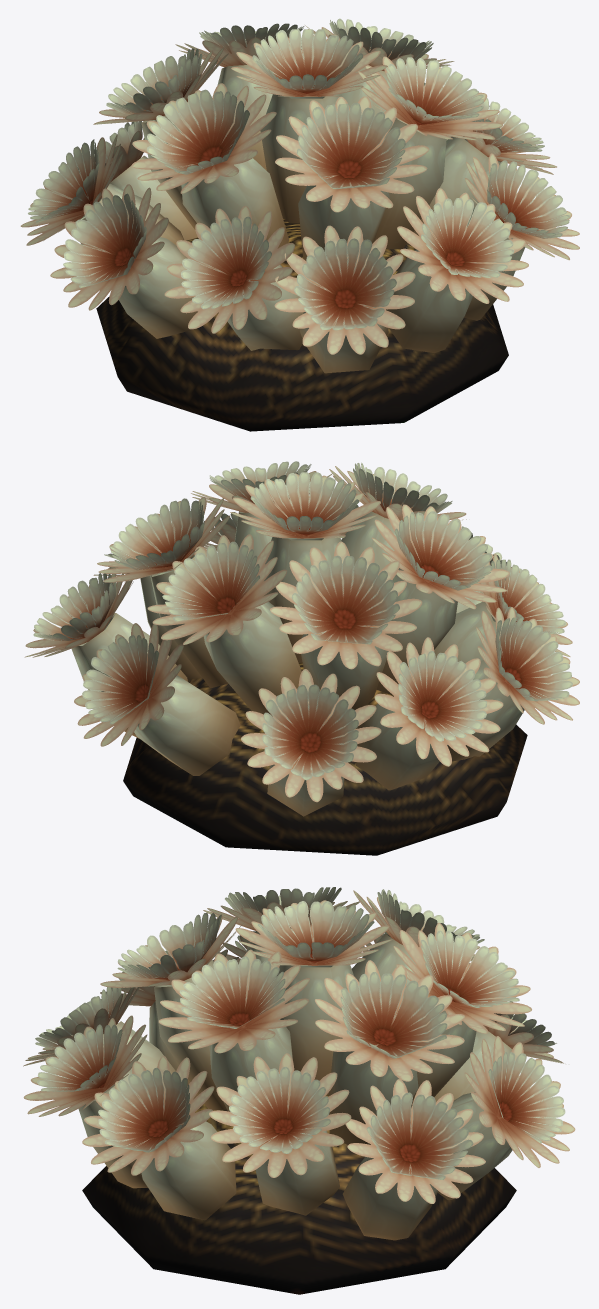
File: Coral_30.FBX
3 renders of one model, top to bottom at view 1: azimuth 30°, elevation 25°; view 2: azimuth 150°, elevation 25°; view 3: azimuth 270°, elevation 25°, orthographic. The views are drawn at different scales.
Parts seen in each view (by area): view 1: Coral_30, Coral25; view 2: Coral_30, Coral25; view 3: Coral_30, Coral25.
Boxes of the visible parts, x1=… form: Coral_30: x1=20, y1=18, x2=579, y2=373; Coral25: x1=96, y1=218, x2=508, y2=431; Coral_30: x1=24, y1=461, x2=579, y2=816; Coral25: x1=123, y1=662, x2=527, y2=855; Coral_30: x1=23, y1=887, x2=575, y2=1240; Coral25: x1=82, y1=1094, x2=516, y2=1294.
Bounding box in the file's own units: 28.6 × 15.84 × 27.91.
